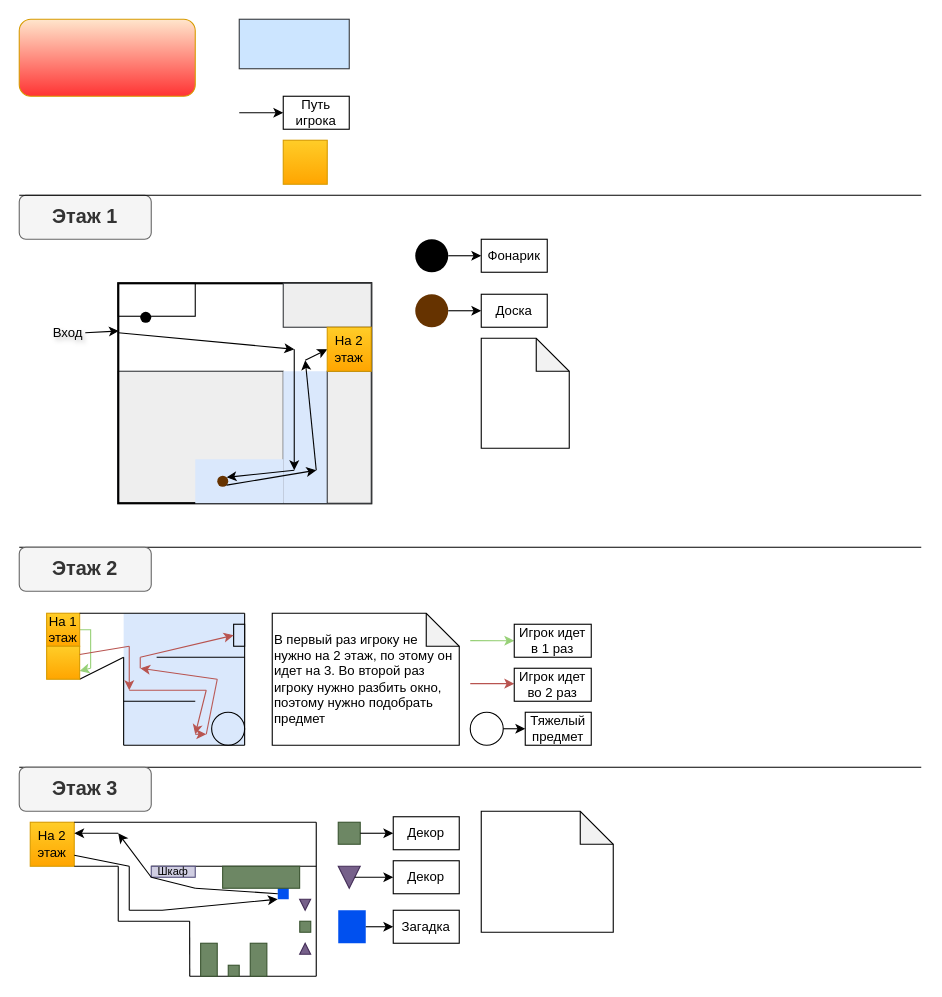
The diagram is 942 pixels wide and 997 high, and some of its shapes have lost their labels. The shapes that lost their labels are listed below. From the top down, each one's centre as x and y in pixels, then its label:
[106,57]: Дом "Туристов" Карта локации Легенда
[293,43]: Зона где без фонарика не пройти
[304,161]: Лест ница
[156,299]: Ресепшен
[524,392]: Чтобы подняться по лестнице нужна доска
[63,662]: На 3 этаж
[546,871]: Чтобы открыть шкаф нужно решить загадку, потом игрок идет на 2 этаж
